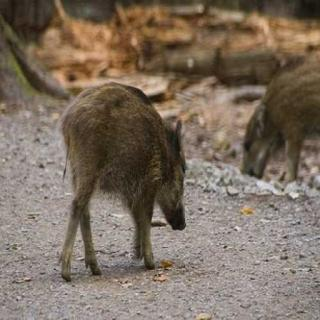Pig: (36, 42, 227, 299), (231, 42, 320, 186)
